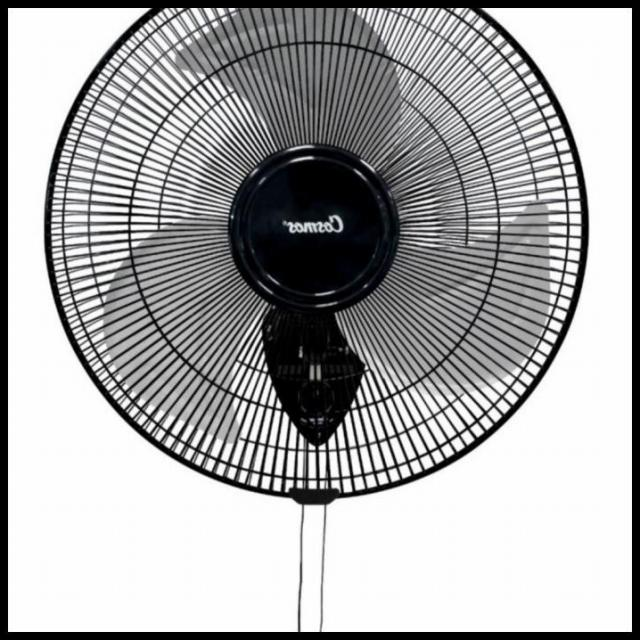fan: (23, 9, 610, 638)
